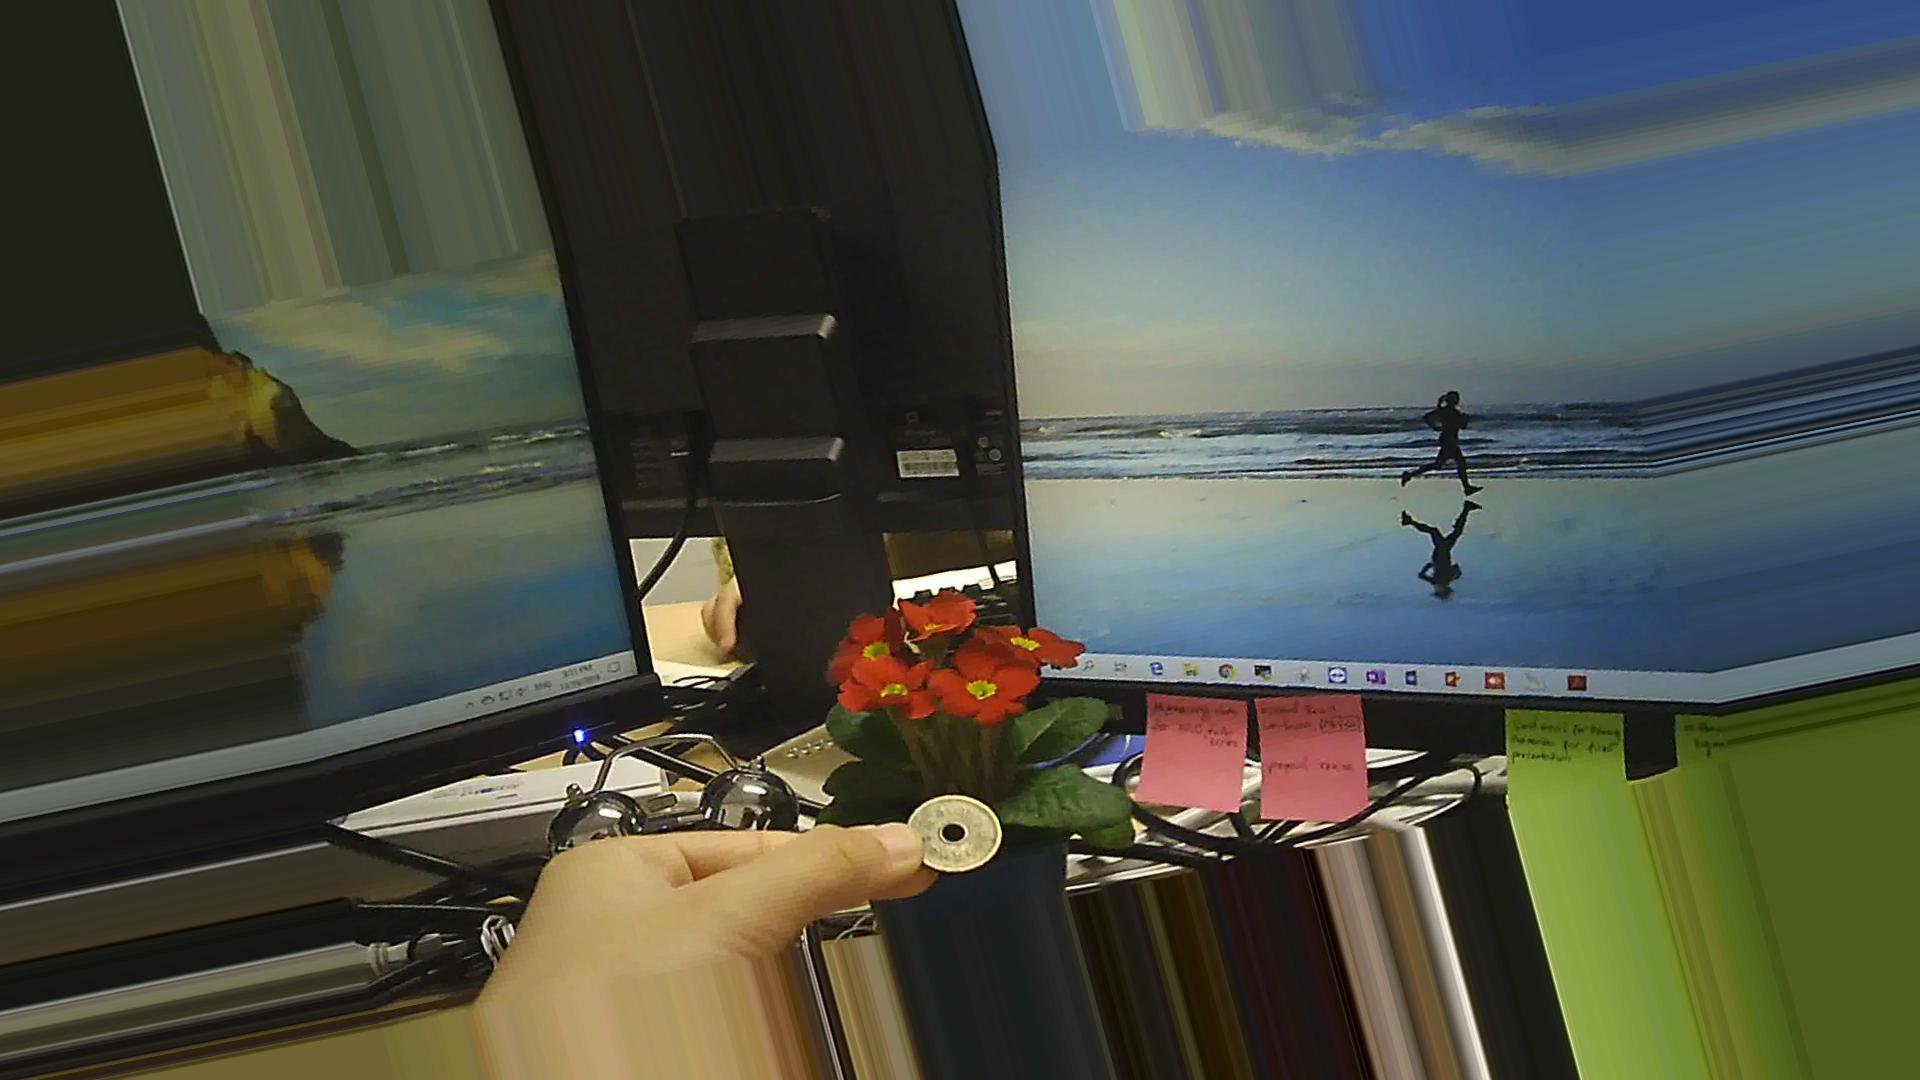5 Yen: (901, 789, 1006, 870)
